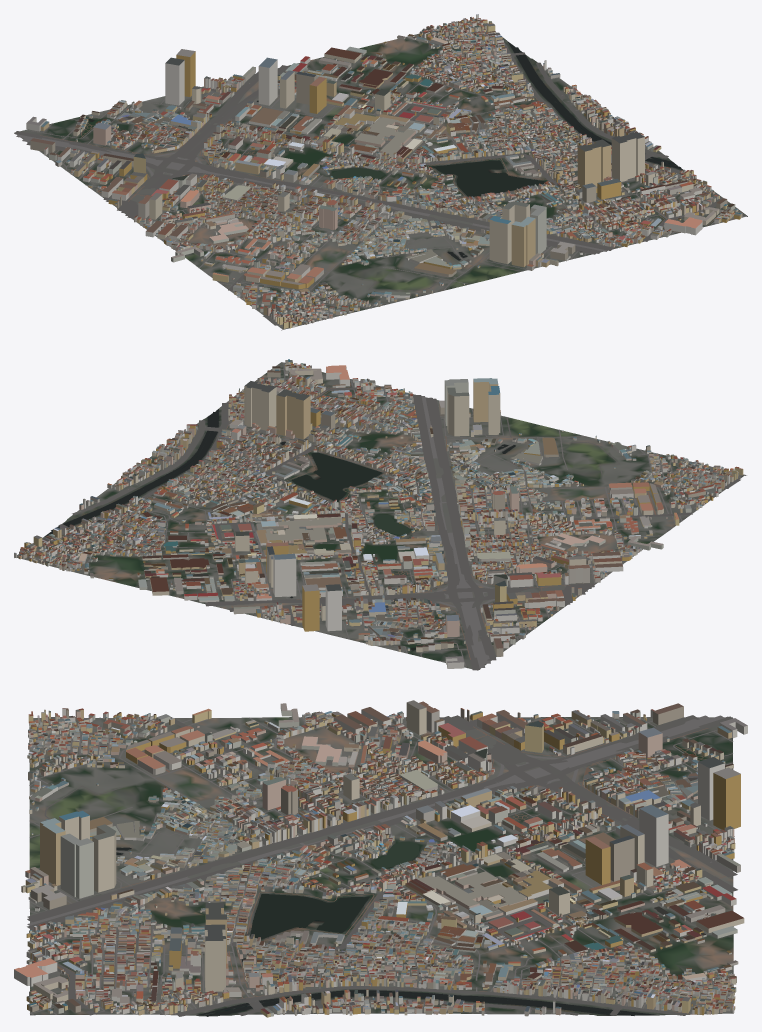
The picture shows the model from 3 angles, top to bottom: view 1: azimuth 30°, elevation 25°; view 2: azimuth 150°, elevation 25°; view 3: azimuth 270°, elevation 25°; orthographic projection. The views are drawn at different scales.
Parts seen in each view (by area): view 1: buildings, ground, roads, water; view 2: buildings, ground, roads, water; view 3: buildings, ground, roads, water.
Boxes of the visible parts, x1,y1,x2,y2 form: buildings: [26, 14, 742, 328]; ground: [14, 21, 747, 329]; roads: [14, 29, 746, 330]; water: [88, 42, 682, 260]; buildings: [14, 359, 743, 668]; ground: [14, 362, 745, 670]; roads: [32, 362, 746, 670]; water: [44, 409, 515, 650]; buildings: [14, 700, 747, 1017]; ground: [29, 717, 733, 1016]; roads: [27, 715, 737, 1016]; water: [116, 841, 655, 1016].
Size of the model in its own units: 1454 by 122 by 1462.
